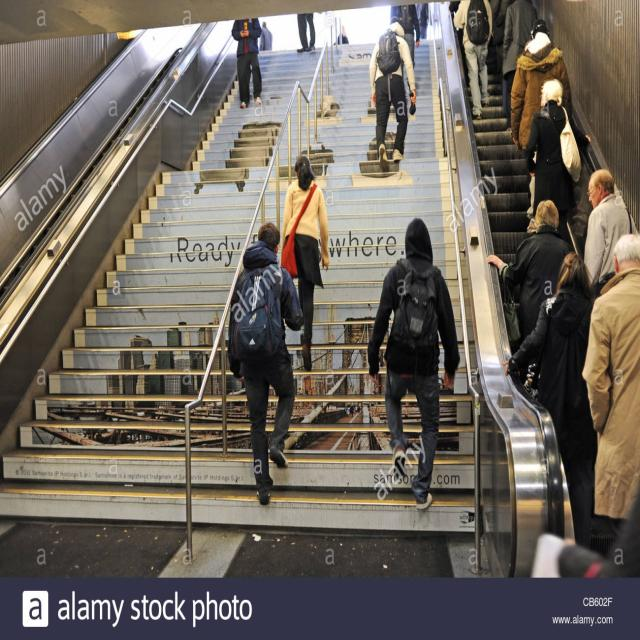body: (366, 216, 462, 511), (501, 252, 597, 547), (227, 220, 304, 504), (580, 232, 640, 549), (484, 197, 576, 400), (69, 389, 364, 450), (213, 0, 511, 58), (510, 18, 573, 201), (278, 152, 330, 372), (525, 78, 592, 241), (530, 484, 640, 580), (367, 14, 417, 170), (582, 166, 639, 300), (502, 0, 538, 132), (455, 0, 493, 120), (389, 0, 422, 92), (231, 18, 263, 110), (494, 0, 516, 85)
